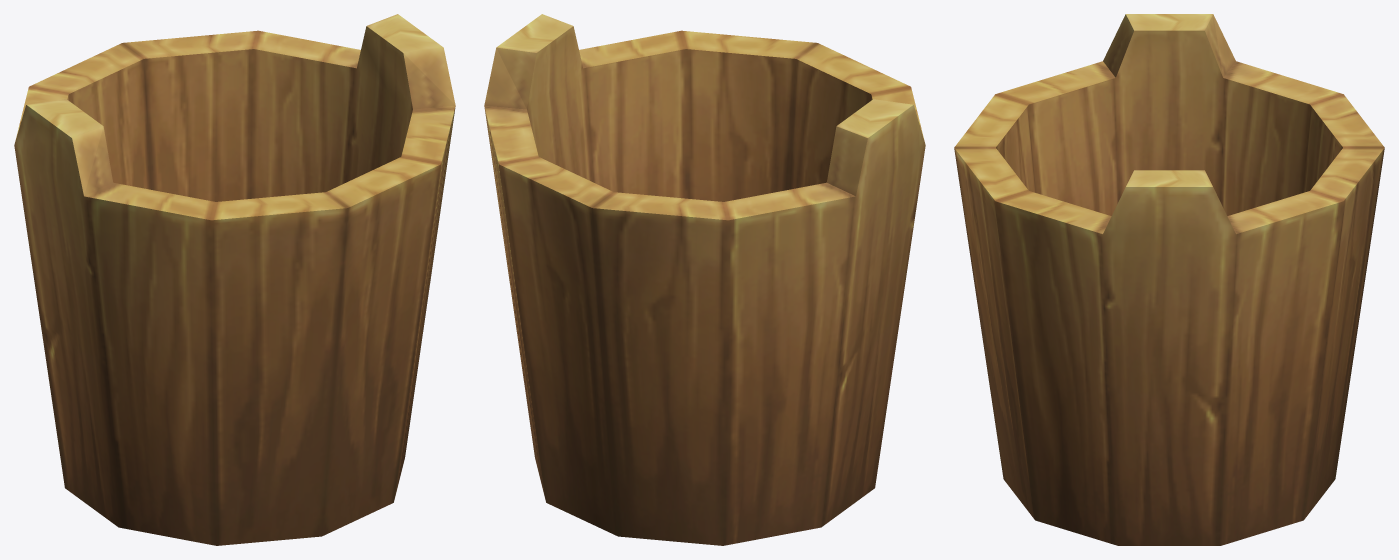
The model's file is Bucket_01.FBX.
The picture shows the model from 3 angles, left to right: view 1: azimuth 30°, elevation 25°; view 2: azimuth 150°, elevation 25°; view 3: azimuth 270°, elevation 25°; orthographic projection. The views are drawn at different scales.
Visible parts, largest first — view 1: Bucket_01; view 2: Bucket_01; view 3: Bucket_01.
Part boxes in pixels (left/top/right/bottom): Bucket_01: left=14, top=14, right=455, bottom=545; Bucket_01: left=484, top=14, right=925, bottom=545; Bucket_01: left=954, top=14, right=1384, bottom=545.
Bounding box in the file's own units: 44.77 × 47.08 × 45.68.
